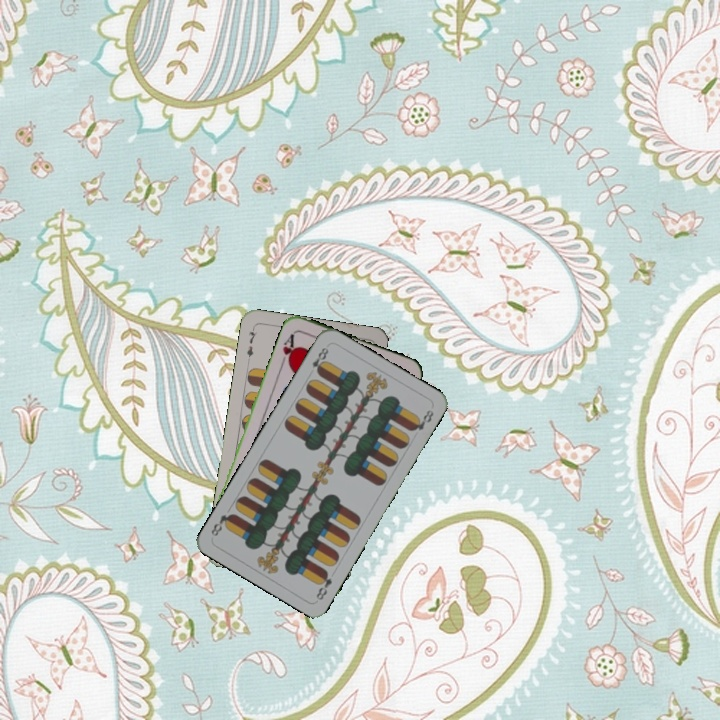E7: (242, 323, 259, 364)
E8: (312, 566, 335, 603), (308, 342, 331, 377)
HA: (277, 329, 298, 368)
